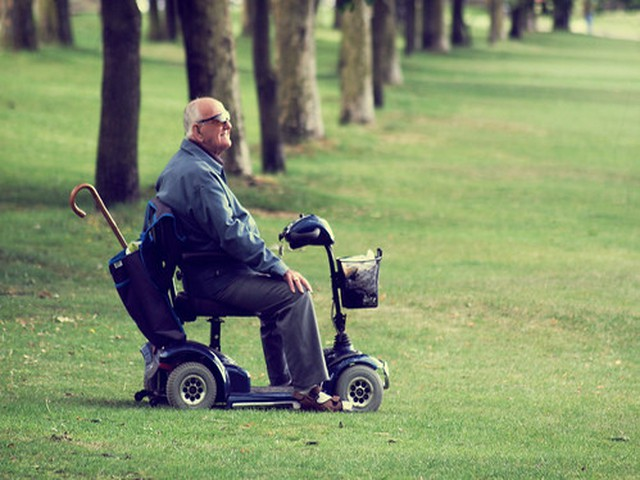Person: (152, 88, 346, 394)
